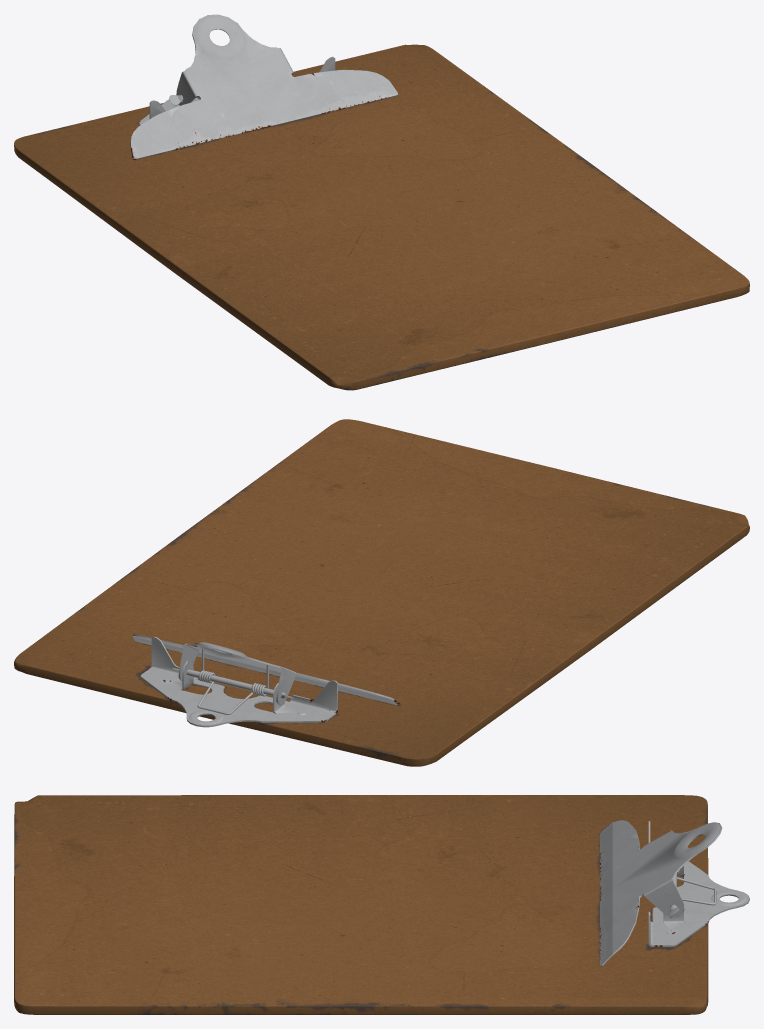
The model's file is clipboard.glb.
The picture shows the model from 3 angles, top to bottom: view 1: azimuth 30°, elevation 25°; view 2: azimuth 150°, elevation 25°; view 3: azimuth 270°, elevation 25°; orthographic projection. The views are drawn at different scales.
Visible parts, largest first — view 1: clipboard; view 2: clipboard; view 3: clipboard.
Boxes of the visible parts, <box> form: clipboard: <box>14,14,749,390</box>; clipboard: <box>14,419,749,766</box>; clipboard: <box>14,795,749,1014</box>.
Bounding box in the file's own units: 0.2286 × 0.042 × 0.3366.
Materials: 1 (1 with a texture image).
